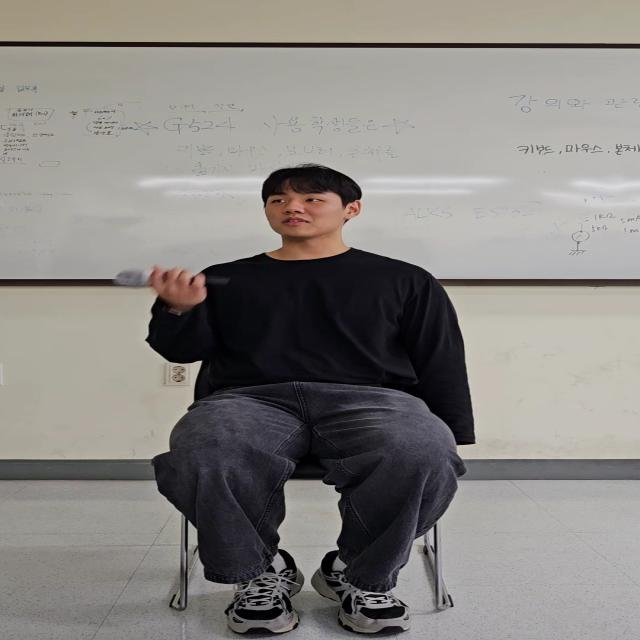curl: (129, 248, 250, 375)
